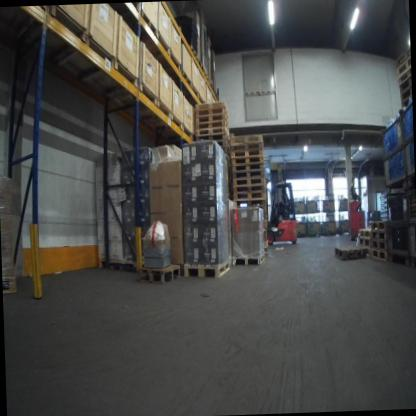forklift: (267, 174, 299, 247)
pallet: (130, 259, 181, 289), (181, 258, 232, 285), (231, 250, 268, 271), (334, 242, 366, 263), (195, 131, 230, 145), (195, 101, 229, 115), (194, 114, 230, 126), (195, 127, 230, 139), (195, 108, 229, 120), (196, 120, 230, 132), (395, 44, 411, 69), (229, 141, 265, 152), (395, 55, 411, 77), (230, 134, 264, 144), (231, 161, 265, 171), (232, 155, 265, 165), (233, 177, 266, 187), (234, 191, 264, 202), (4, 276, 20, 296), (232, 170, 265, 178), (398, 65, 411, 85), (371, 238, 389, 251), (400, 84, 412, 103), (233, 185, 265, 192), (236, 201, 264, 209), (400, 76, 412, 94), (230, 151, 265, 157), (180, 71, 191, 90), (370, 221, 389, 232), (371, 229, 389, 240), (357, 234, 372, 246), (188, 45, 198, 62), (372, 251, 389, 261), (196, 57, 205, 72), (358, 226, 371, 236), (203, 69, 209, 86), (208, 81, 215, 92), (365, 247, 372, 258), (218, 145, 230, 150), (226, 152, 230, 162), (226, 162, 229, 171), (225, 150, 230, 155)
pallet_truck: (343, 181, 367, 241)
stillage: (373, 190, 412, 271), (374, 109, 409, 196), (398, 94, 415, 186), (405, 190, 416, 271), (318, 191, 335, 214), (321, 213, 337, 236), (304, 193, 321, 213), (307, 216, 323, 236), (292, 195, 307, 216), (338, 212, 350, 233), (297, 216, 307, 237), (338, 195, 349, 213)
